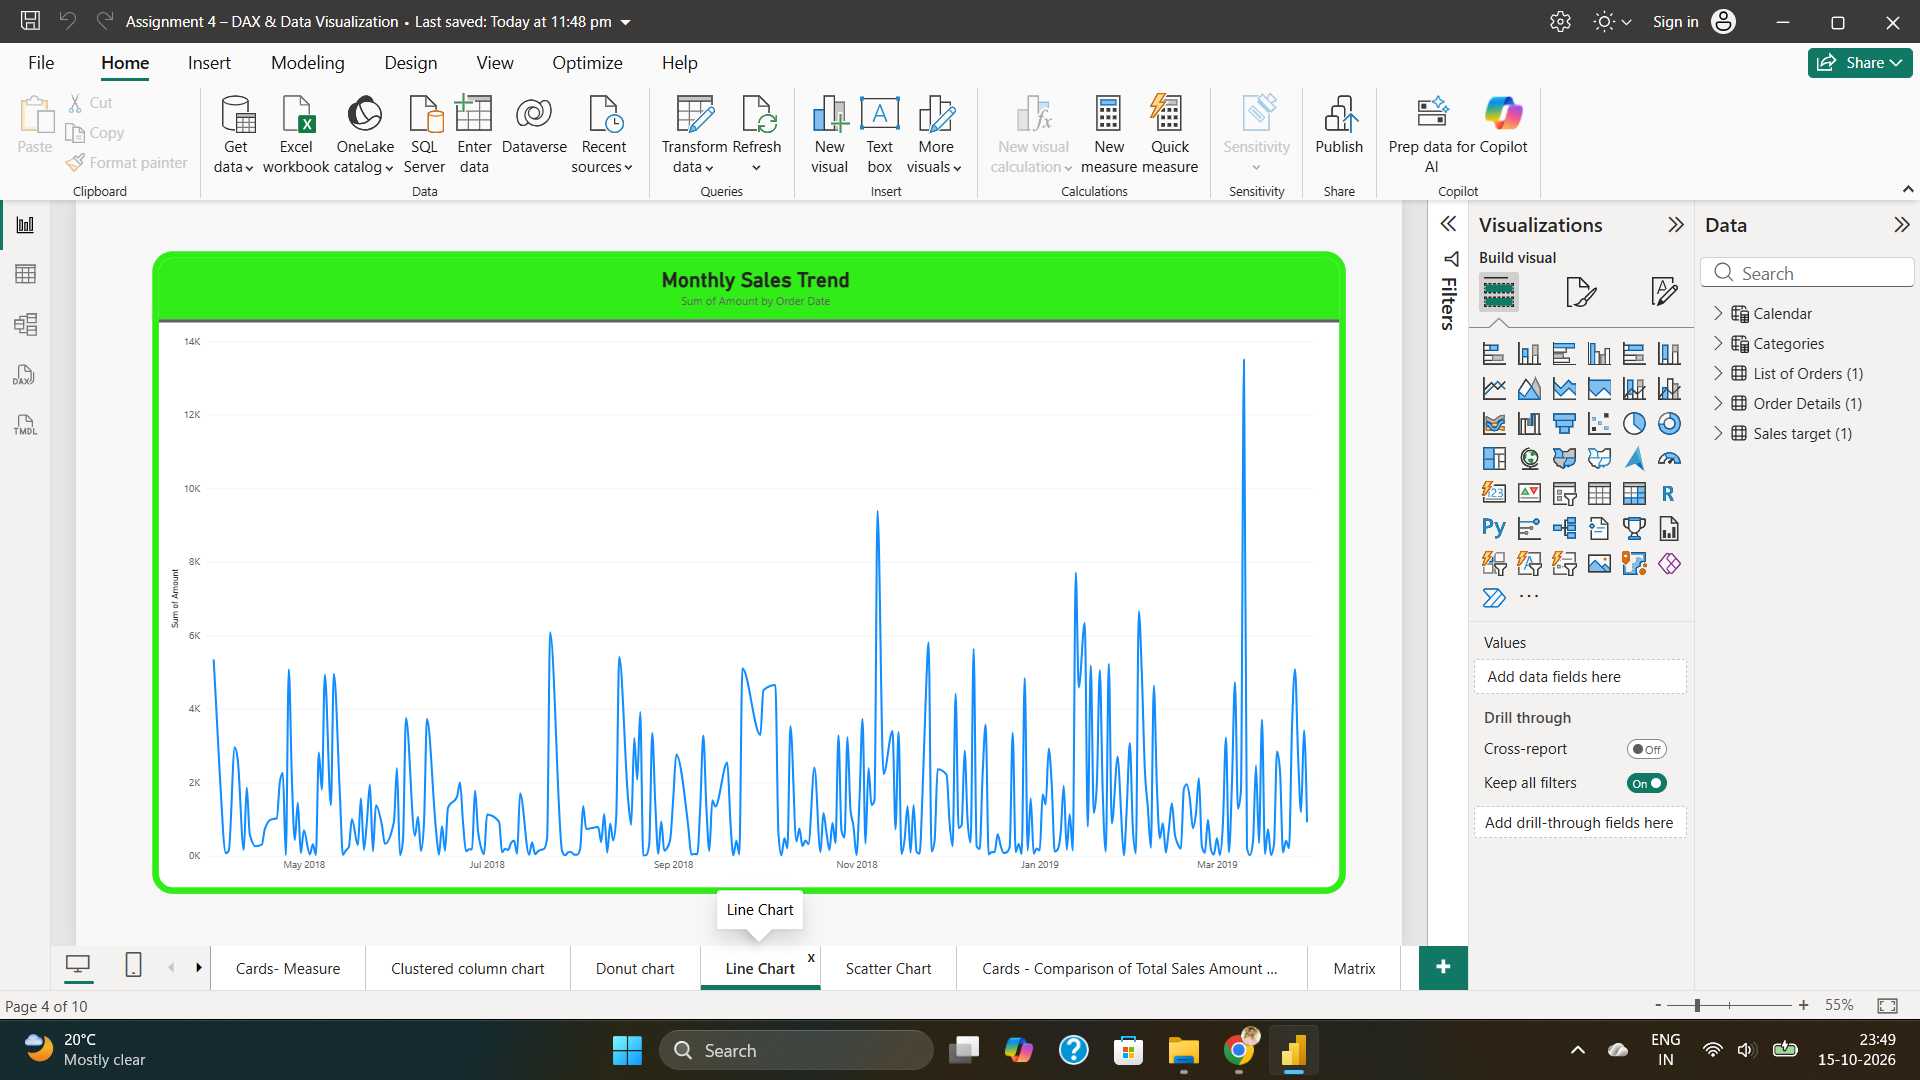

The dashboard page shown, as its layout file describes it:
{"tool":"powerbi","page":{"name":"Line Chart","canvas":[1920,1080],"ordinal":3},"visuals":[{"type":"lineChart","title":"Monthly Sales Trend","fields":{"Category":["List of Orders (1).Order Date.Variation.Date Hierarchy.Year"],"Y":["Sum(Order Details (1).Amount)"]},"box":[110.4,74.2,1728.2,930.2],"z":0}]}

Visuals, with their boxes on the page's 1920x1080 design canvas (x1, y1, x2, y2). These are canvas units, not pixel positions in the 1920x1080 screenshot, which may show the page scaled, cropped or inside an application window:
"Monthly Sales Trend" lineChart: x1=110, y1=74, x2=1839, y2=1004
